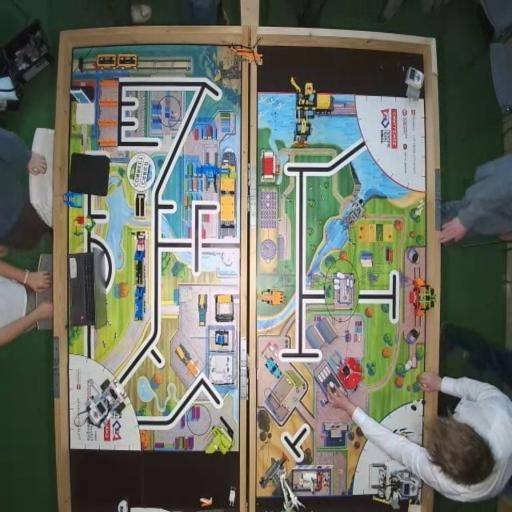lego_robot: (368, 462, 424, 512), (83, 378, 127, 432)
